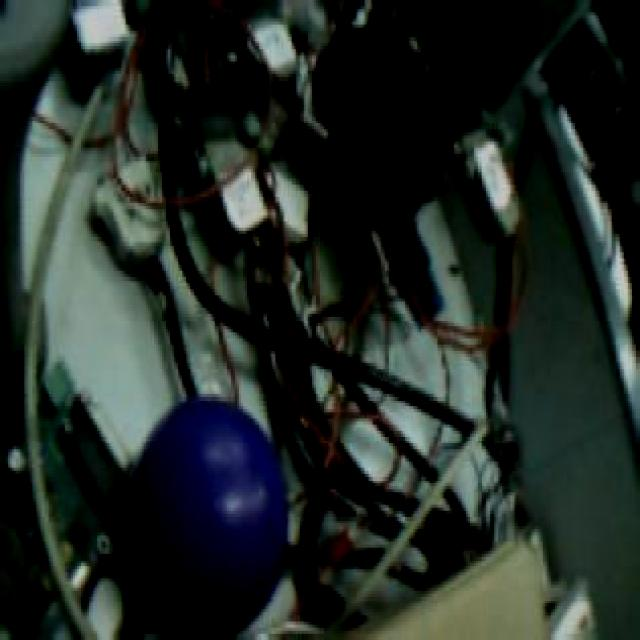BallPurple: (131, 394, 286, 637)
